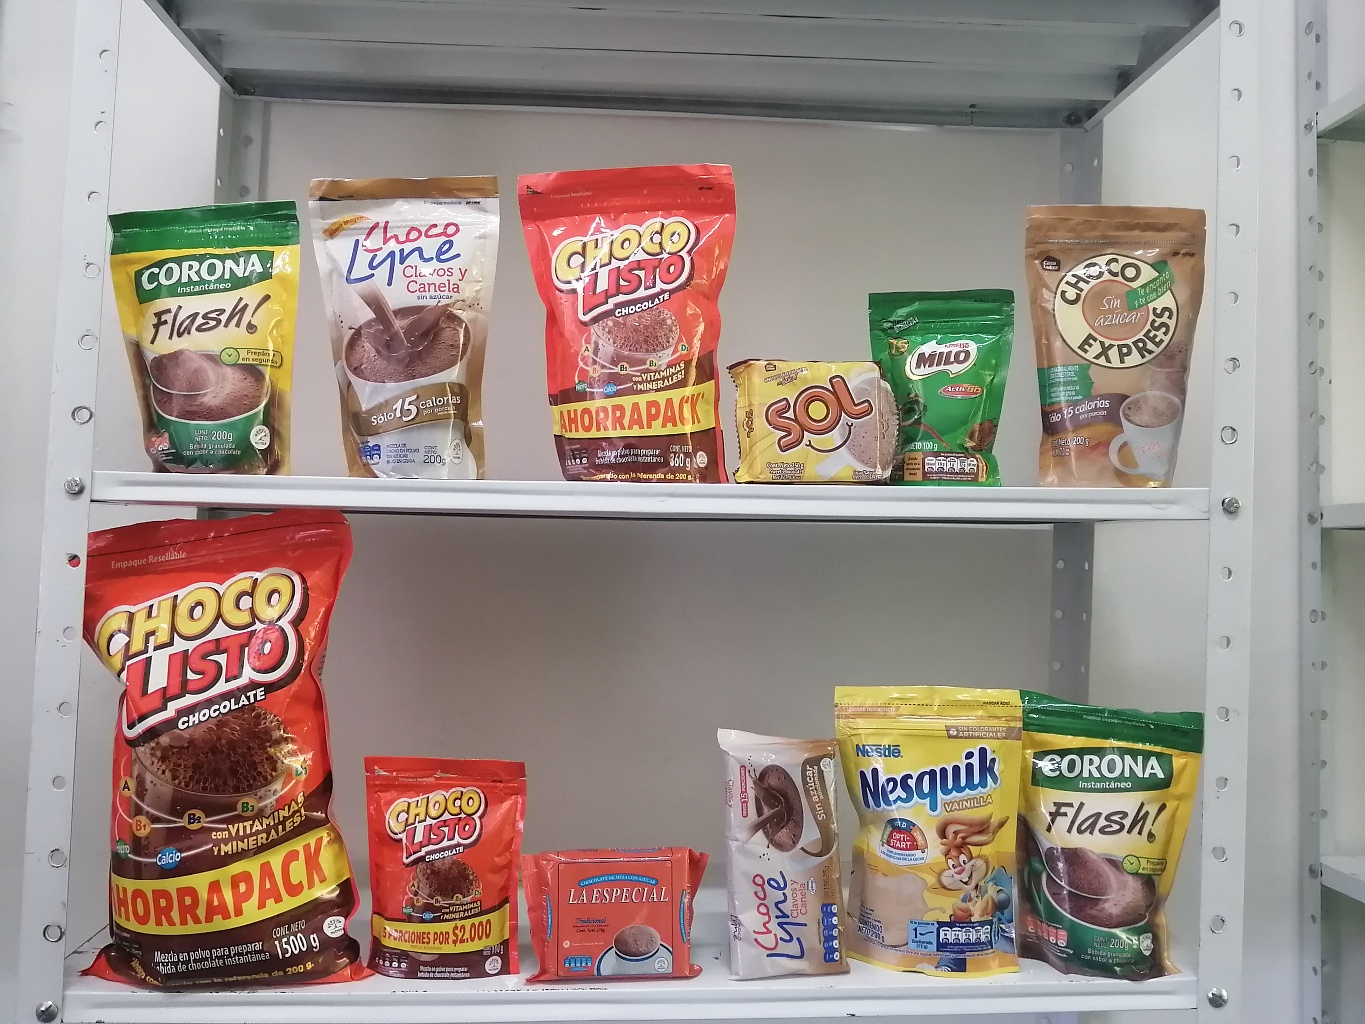COL0170103DYP1,500: (49, 482, 382, 1008)
COL0170103DYP36000: (497, 145, 756, 497)
COL0170203DYP10000: (861, 281, 1030, 499)
COL0170306DYP20000: (819, 666, 1042, 984)
